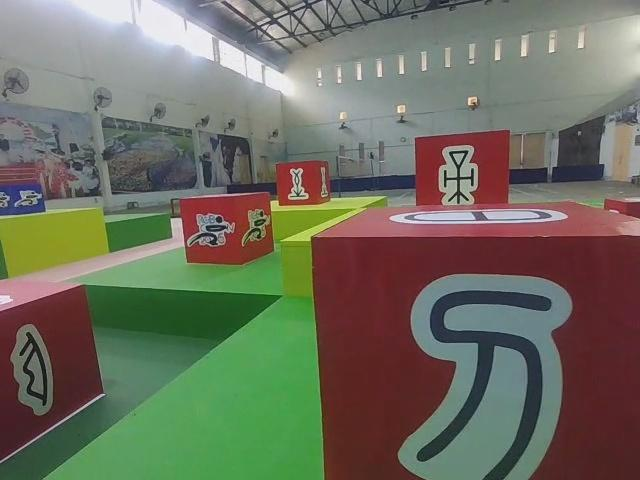R1: (175, 189, 277, 268)
R2 Fake: (307, 199, 640, 480)
R2 Real: (0, 276, 109, 465), (411, 126, 514, 214), (274, 159, 334, 207)
